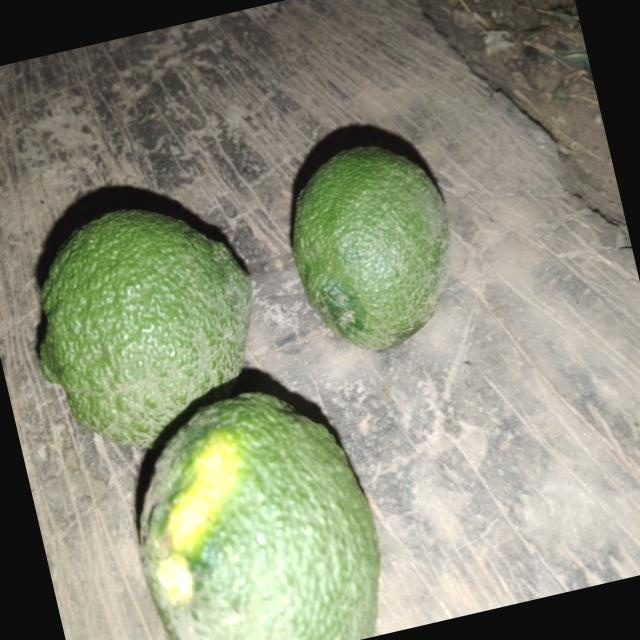agrume: (0, 157, 304, 518), (102, 374, 405, 640), (241, 106, 491, 382)
